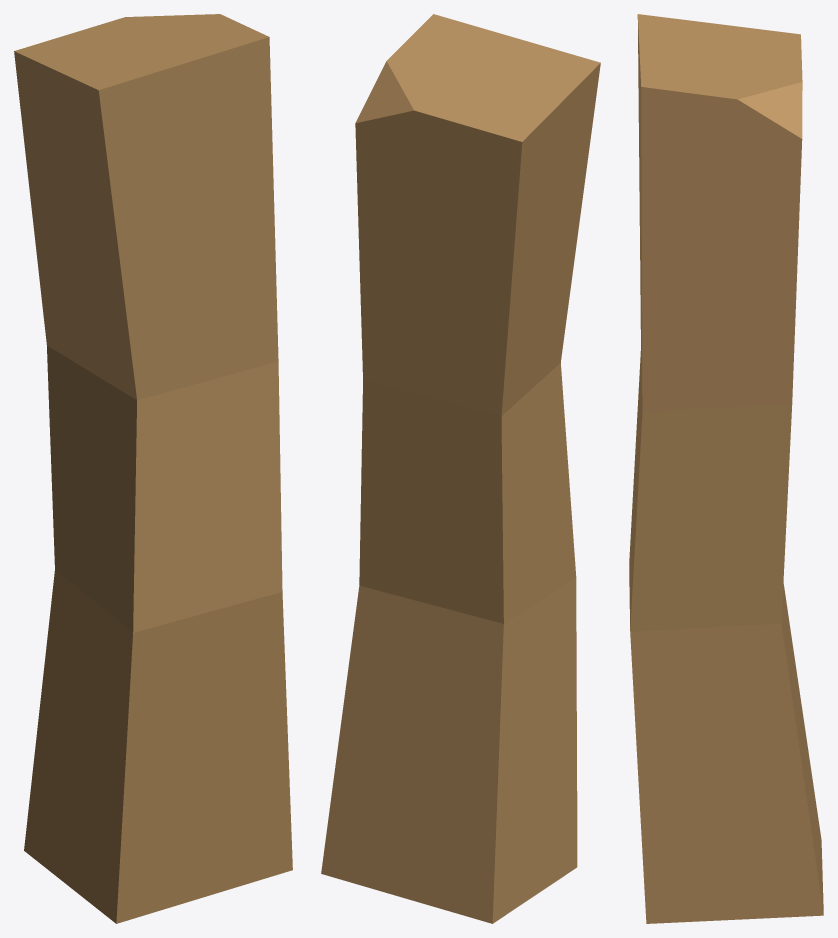
Rendered from Fence_Post.fbx.
The picture shows the model from 3 angles, left to right: view 1: azimuth 30°, elevation 25°; view 2: azimuth 150°, elevation 25°; view 3: azimuth 270°, elevation 25°; orthographic projection. The views are drawn at different scales.
Visible parts, largest first — view 1: Fence_Post; view 2: Fence_Post; view 3: Fence_Post.
Boxes of the visible parts, x1,y1,x2,y2 form: Fence_Post: (14, 14, 292, 923); Fence_Post: (321, 14, 600, 923); Fence_Post: (629, 14, 823, 923).
Bounding box in the file's own units: 28.02 × 114 × 24.1.
